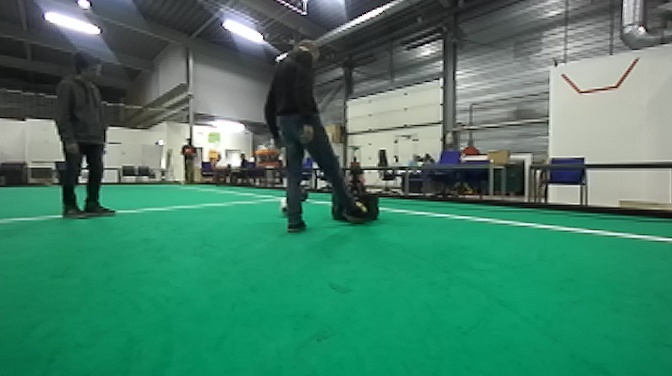human: (261, 40, 342, 231), (49, 50, 126, 221)
robot: (328, 143, 387, 225)
